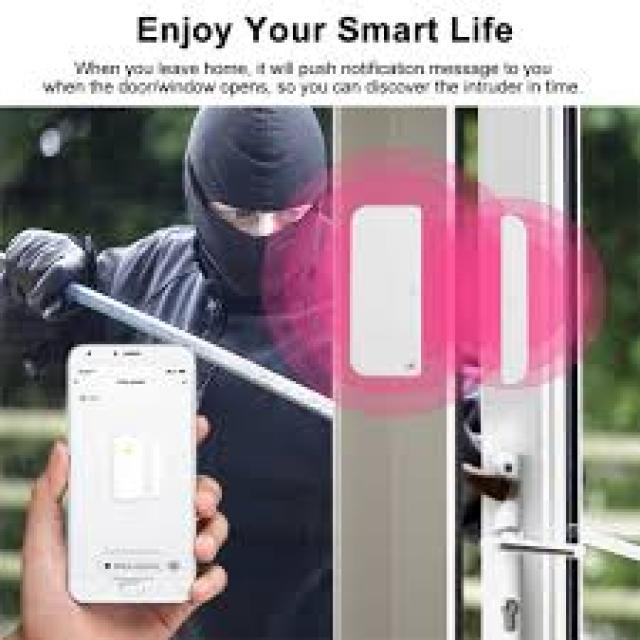intrusion detected: (4, 112, 339, 348), (171, 108, 325, 322), (179, 105, 259, 312)
